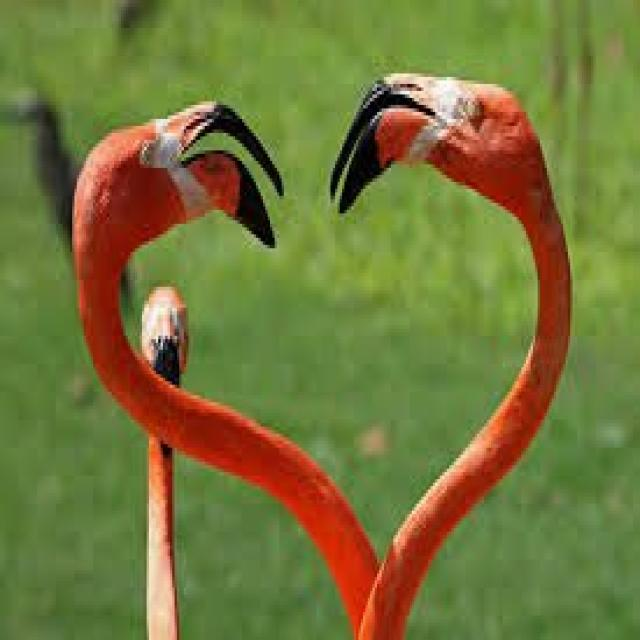Flamingo: (71, 70, 577, 640)
